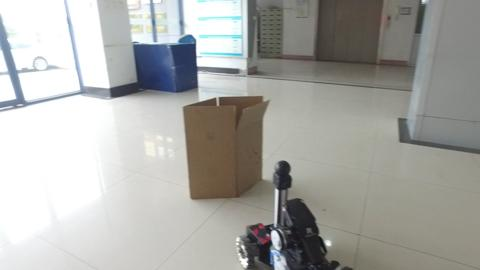box: (182, 93, 265, 202)
chariot: (238, 158, 354, 269)
